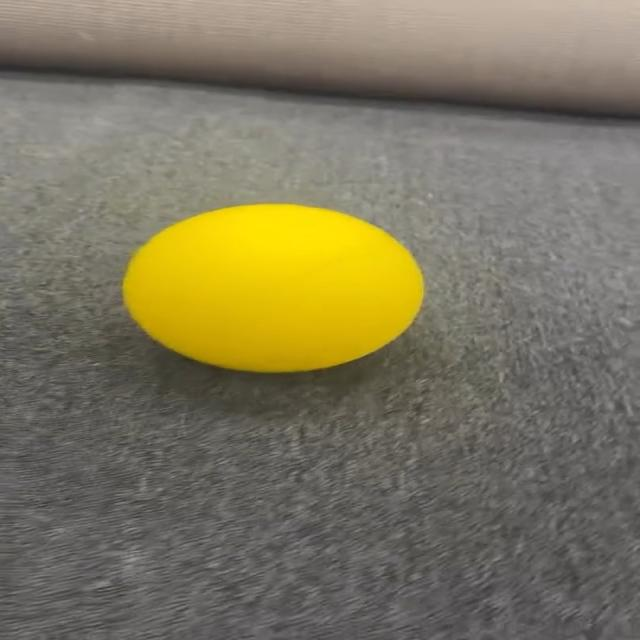Fuels: (122, 205, 418, 370)
